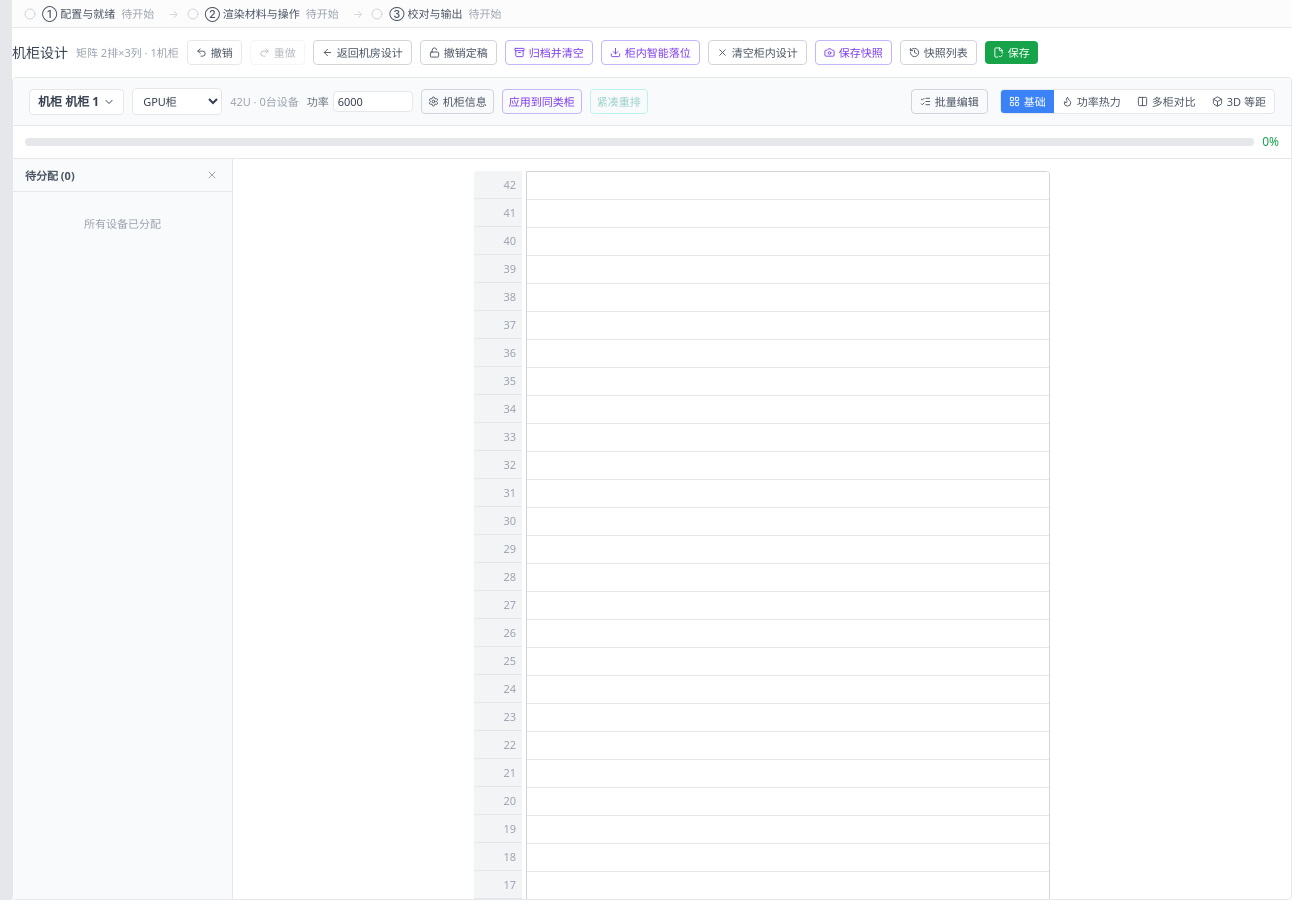
Test: RackDesignTab › M5 ED-4 机柜信息调整：Header 右键 → 出现机柜信息调整菜单
Right-click the element titled "右键" at (652, 102), box [13,78,1291,126]
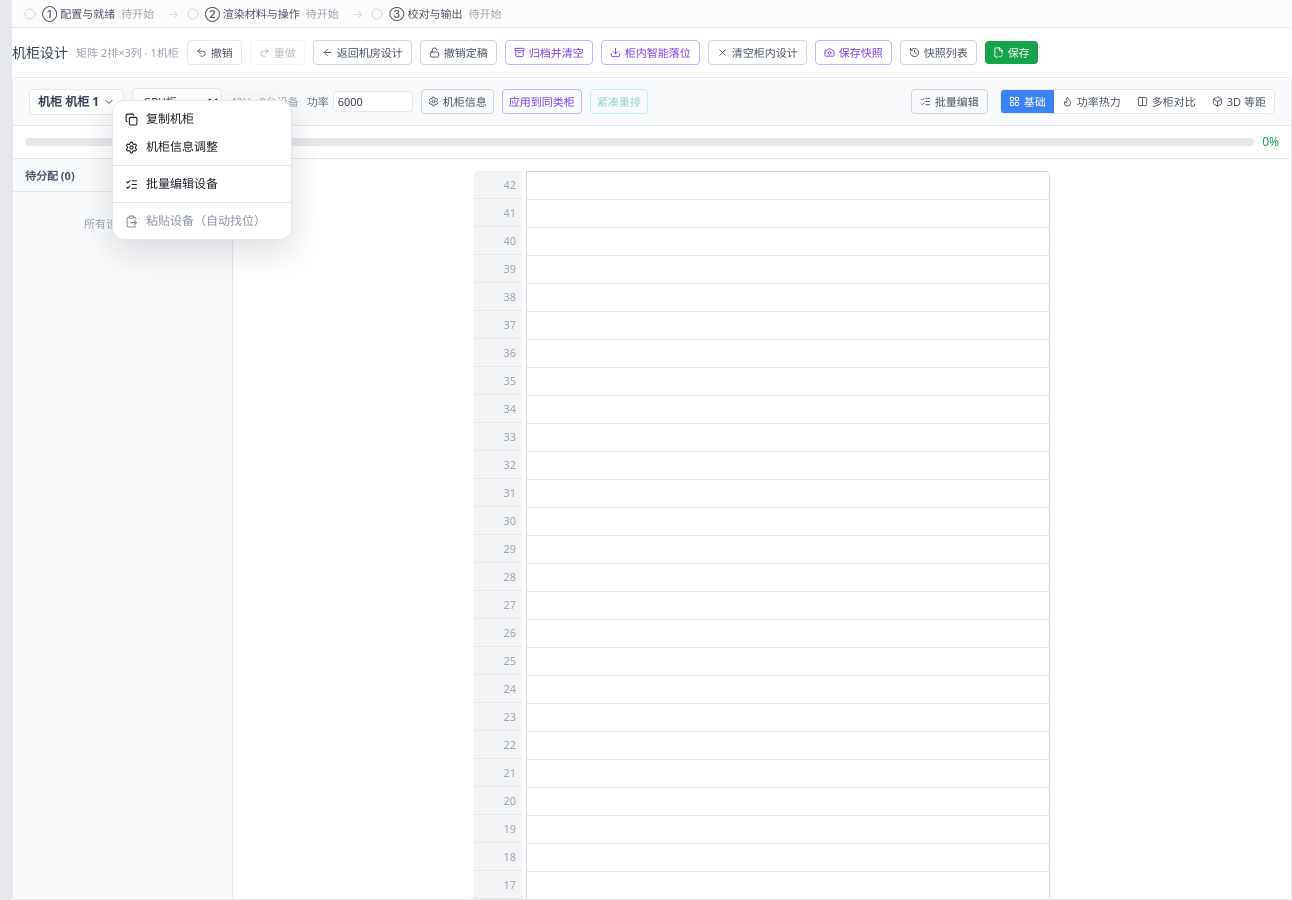
Now the button "机柜信息调整" is shown, box [113,133,291,161]
